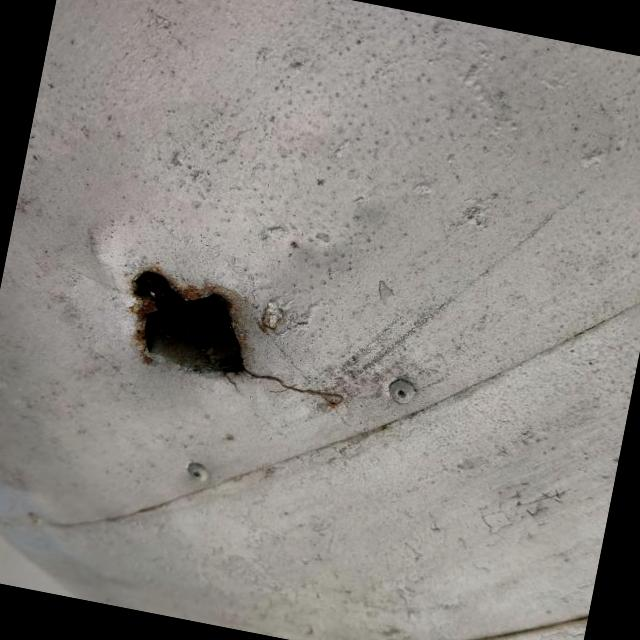crack: (93, 250, 374, 428)
